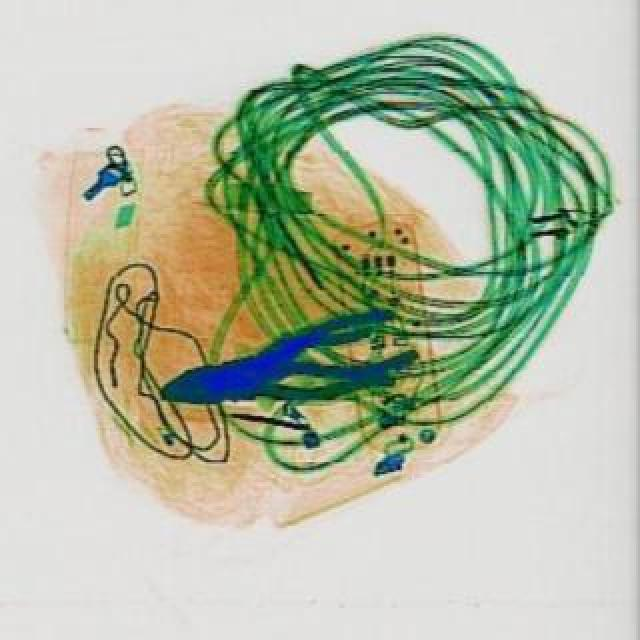wrench: (158, 328, 402, 428), (242, 304, 426, 412)
